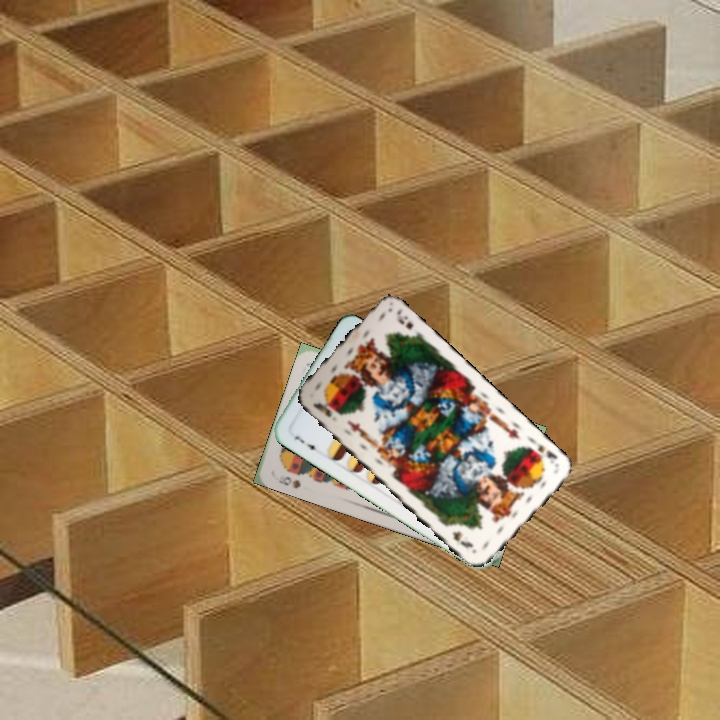E7: (290, 432, 320, 455)
S8: (274, 472, 303, 491)
SK: (524, 436, 560, 463), (308, 399, 334, 420)
